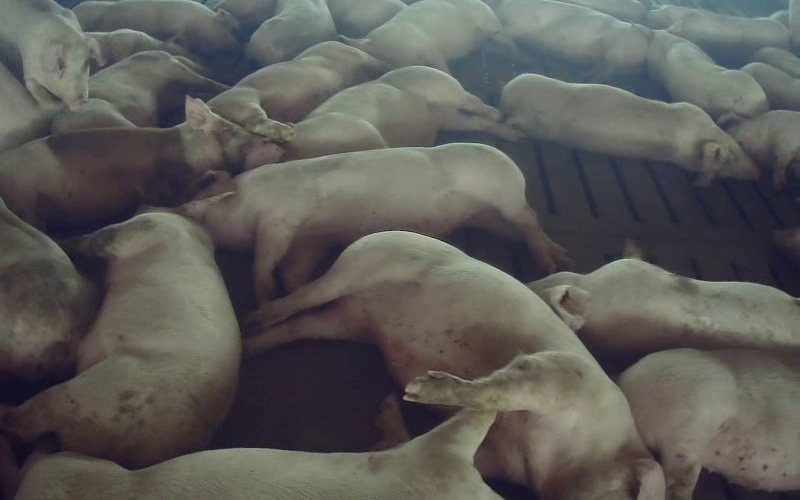pig: (245, 231, 663, 499), (0, 212, 240, 467), (179, 144, 566, 301), (16, 394, 500, 499), (0, 97, 255, 229), (501, 74, 758, 185), (619, 348, 799, 499), (529, 259, 799, 357), (283, 66, 518, 159), (208, 41, 389, 140), (51, 51, 226, 133), (647, 30, 767, 120), (498, 0, 650, 71), (351, 0, 501, 71), (73, 0, 239, 55), (646, 5, 789, 67), (246, 0, 336, 65)
